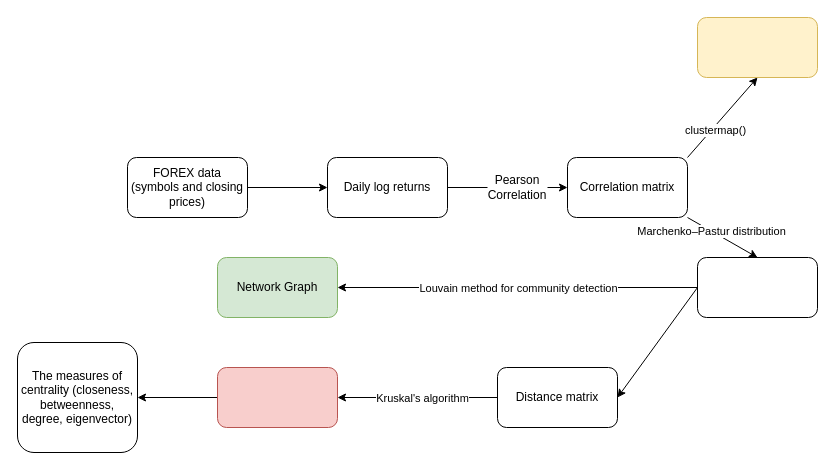
The diagram is 835 pixels wide and 470 high, and some of its shapes have lost their labels. Each missing label, with the centre of its shape:
"Clustered Heatmap" belongs at pixel 757 47.
"Minimum Spanning Tree" belongs at pixel 277 397.
"Noise removed correlation matrix" belongs at pixel 757 287.
